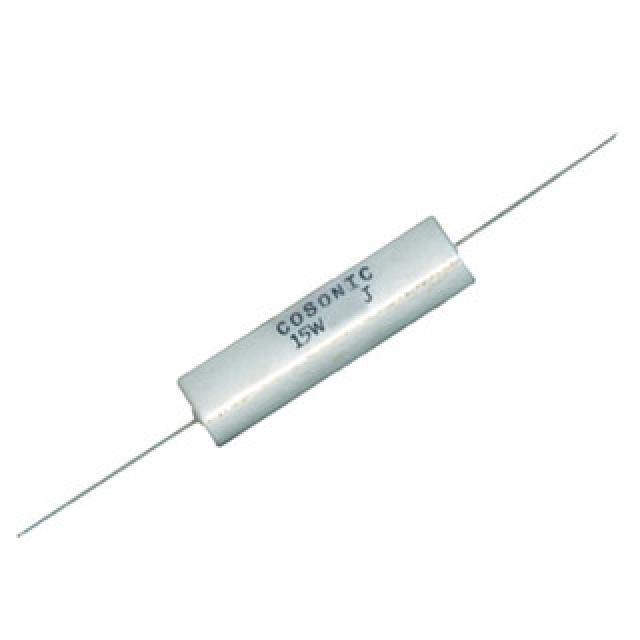Resistor: (182, 219, 468, 440)
